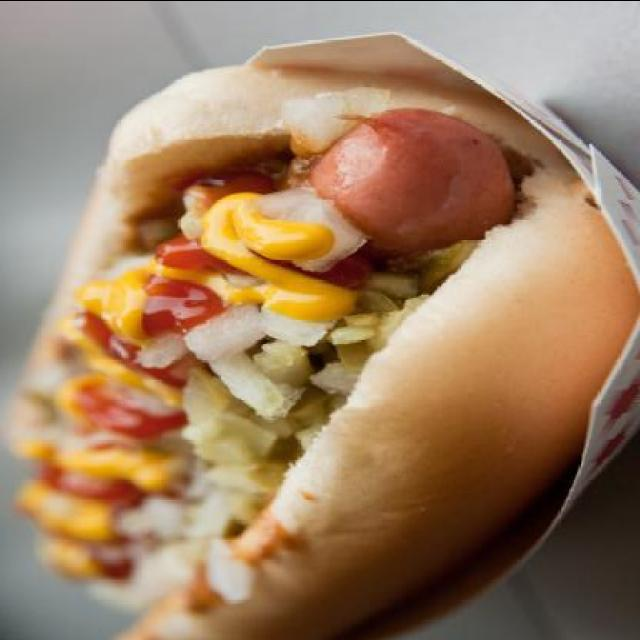Sandwich: (0, 60, 638, 640)
